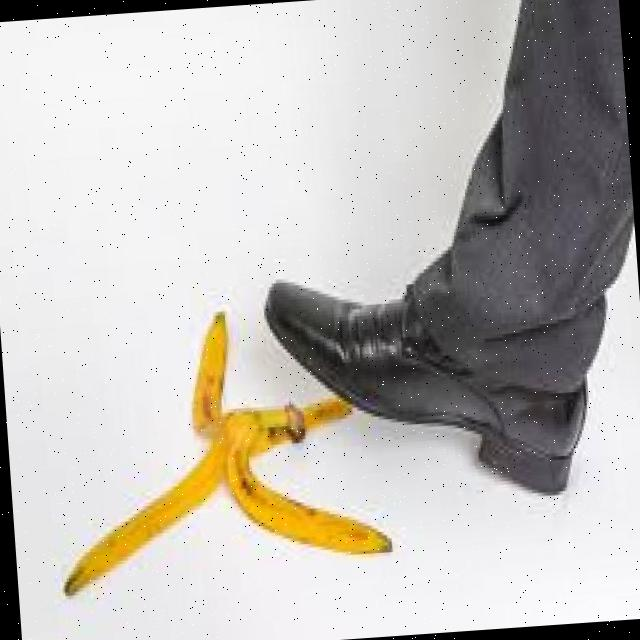banana-peel: (42, 297, 394, 597)
